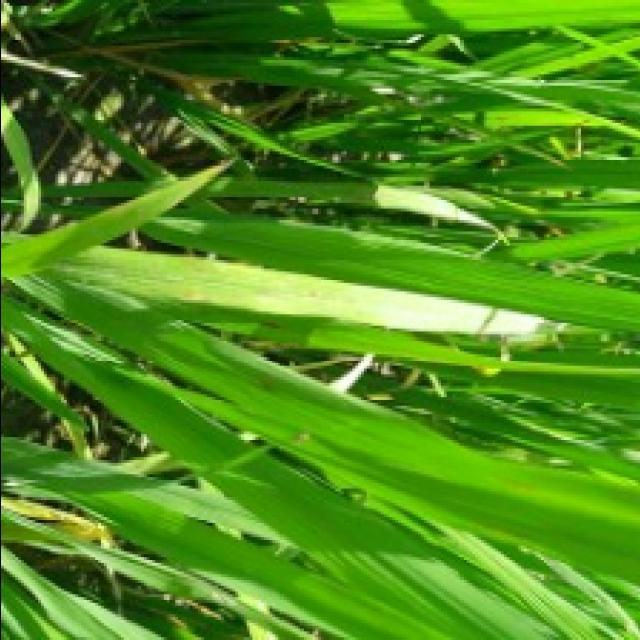Unhealthy: (181, 291, 204, 301)
